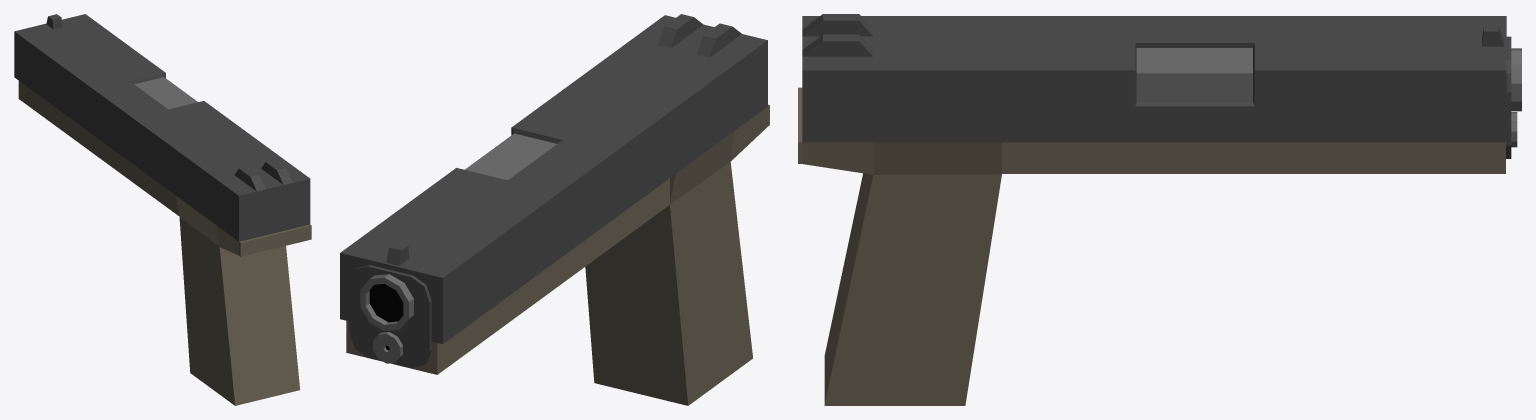
File: AutomaticPistol.glb
3 renders of one model, left to right at view 1: azimuth 30°, elevation 25°; view 2: azimuth 150°, elevation 25°; view 3: azimuth 270°, elevation 25°, orthographic. The views are drawn at different scales.
Visible parts, largest first — view 1: AutomaticPistol; view 2: AutomaticPistol; view 3: AutomaticPistol.
Boxes of the visible parts, <box> form: AutomaticPistol: <box>14,14,311,405</box>; AutomaticPistol: <box>340,14,769,405</box>; AutomaticPistol: <box>798,14,1521,405</box>.
Bounding box in the file's own units: 2 × 6.21 × 11.24.
